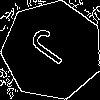J: (27, 25, 80, 73)
